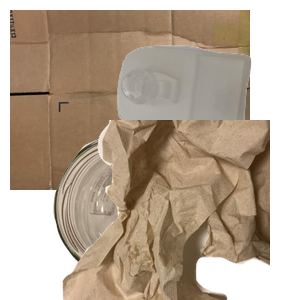cardboard: (10, 10, 250, 190)
glass: (50, 131, 252, 300)
plastic: (115, 43, 300, 177)
trash: (60, 120, 300, 300)
